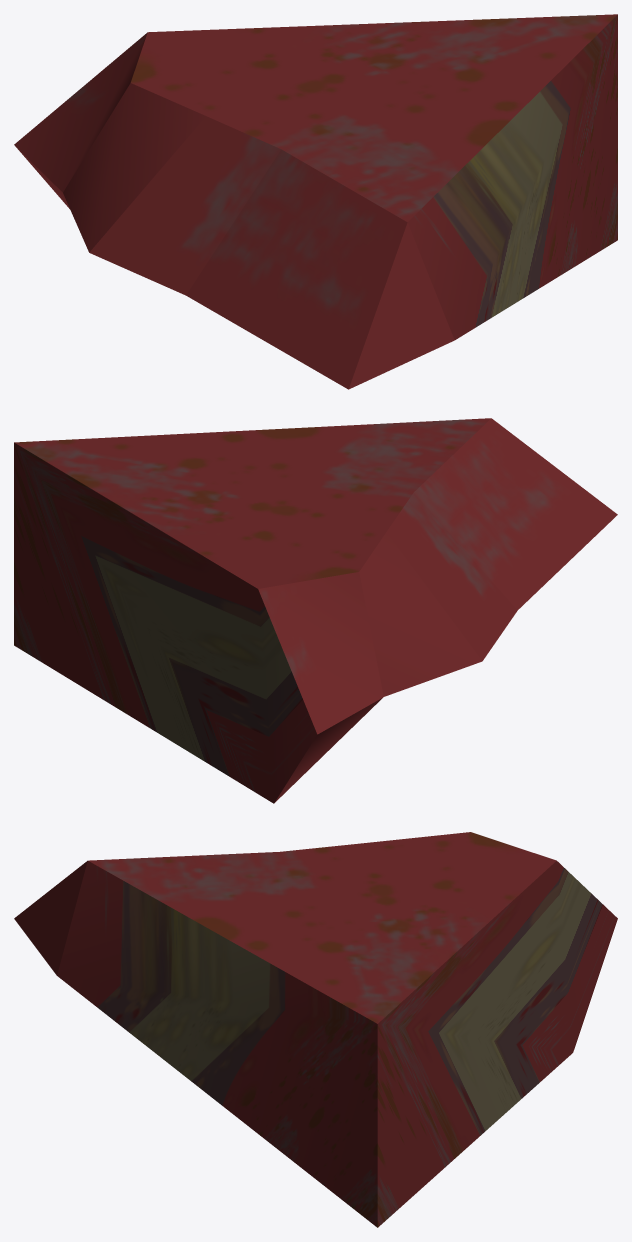
File: ishi_03_07_5.fbx
3 renders of one model, top to bottom at view 1: azimuth 30°, elevation 25°; view 2: azimuth 150°, elevation 25°; view 3: azimuth 270°, elevation 25°, orthographic. The views are drawn at different scales.
Parts seen in each view (by area): view 1: polySurface48; view 2: polySurface48; view 3: polySurface48.
Part boxes in pixels (left/top/right/bottom): polySurface48: left=14, top=14, right=617, bottom=389; polySurface48: left=14, top=418, right=617, bottom=803; polySurface48: left=14, top=832, right=617, bottom=1227.
Size of the model in its own units: 12.49 by 5.14 by 13.79.
Materials: 1 (1 with a texture image).
